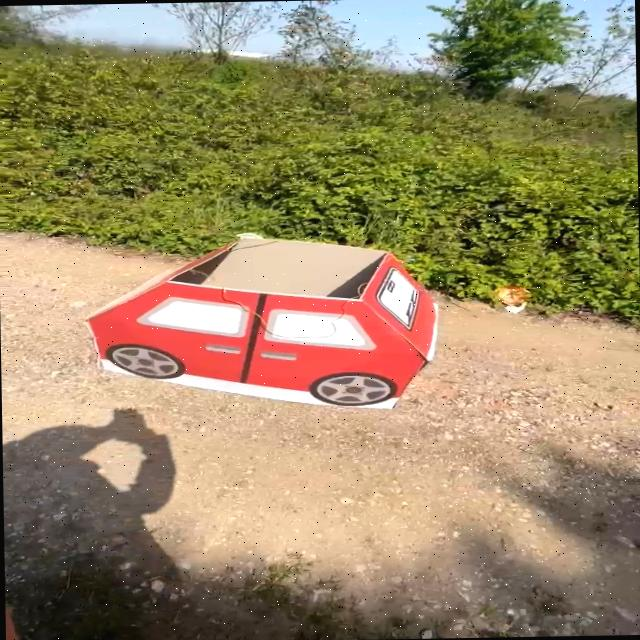red_car: (54, 212, 473, 419)
